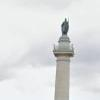Statue: (46, 13, 85, 73)
